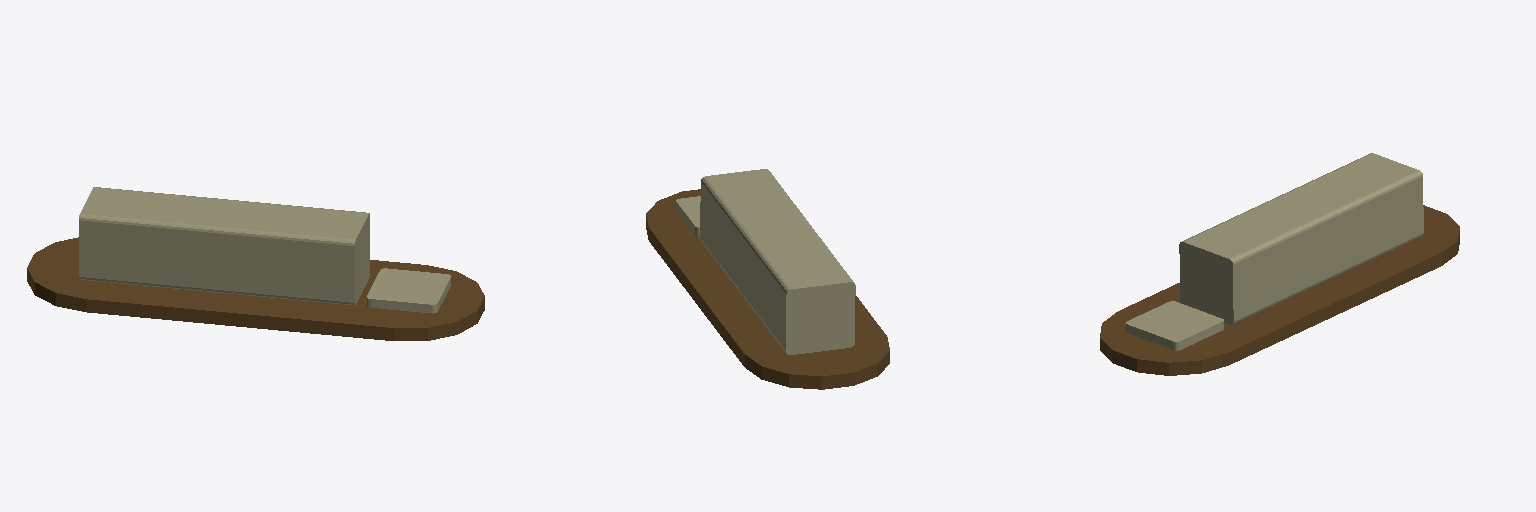
File: mantequilla.obj
The picture shows the model from 3 angles: view 1: azimuth 30°, elevation 25°; view 2: azimuth 150°, elevation 25°; view 3: azimuth 270°, elevation 25°; orthographic projection.
Visible parts, largest first — view 1: bu.Butte.2, bu.Butter, bu.Butte.1; view 2: bu.Butte.2, bu.Butter, bu.Butte.1; view 3: bu.Butte.2, bu.Butter, bu.Butte.1.
Part boxes in pixels (left/top/right/bottom): bu.Butte.2: left=79, top=187, right=450, bottom=313; bu.Butter: left=27, top=237, right=484, bottom=327; bu.Butte.1: left=27, top=269, right=484, bottom=340; bu.Butte.2: left=676, top=169, right=855, bottom=354; bu.Butter: left=646, top=189, right=889, bottom=375; bu.Butte.1: left=646, top=216, right=889, bottom=389; bu.Butte.2: left=1126, top=153, right=1423, bottom=350; bu.Butter: left=1100, top=205, right=1459, bottom=362; bu.Butte.1: left=1100, top=231, right=1459, bottom=375.
Bounding box in the file's own units: 1.58 × 0.368 × 1.49.